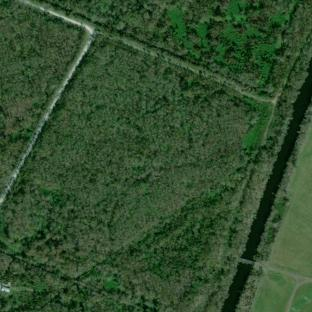Floresta: (0, 36, 258, 312), (45, 0, 311, 89), (0, 0, 86, 197)
